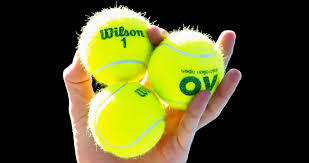Ball: (150, 27, 226, 101), (77, 7, 152, 80), (89, 83, 164, 156)
